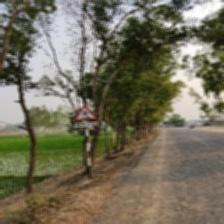Pedestrian-crossing: (72, 105, 102, 131)
